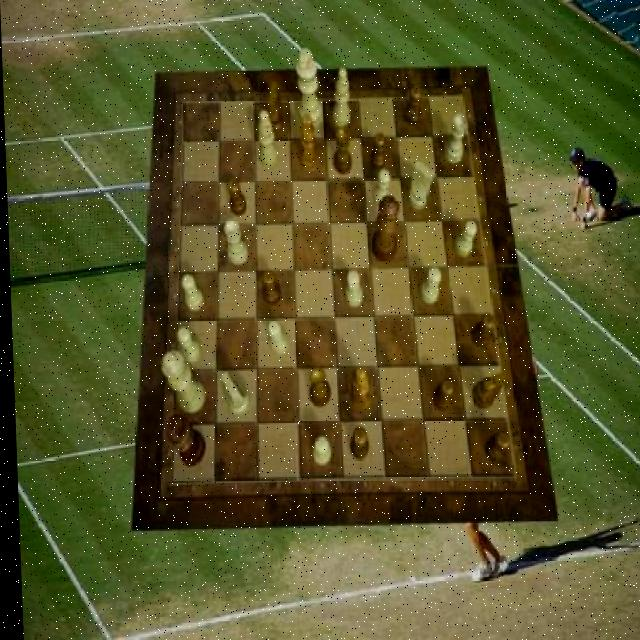bishop: (298, 114, 317, 172), (345, 368, 367, 410)
black-bishop: (162, 414, 203, 468)
black-king: (469, 372, 504, 410), (265, 81, 284, 136)
black-knight: (468, 312, 493, 347), (481, 431, 507, 462), (403, 86, 422, 126), (429, 378, 451, 412), (226, 179, 245, 216), (367, 134, 385, 172), (345, 428, 365, 462), (260, 270, 278, 306)
black-pawn: (368, 196, 400, 262)
black-queen: (303, 368, 327, 408), (331, 126, 350, 176)
black-rook: (256, 109, 277, 167), (331, 68, 350, 126)
white-bishop: (294, 48, 320, 128)
white-king: (405, 163, 434, 211), (217, 372, 246, 415)
white-knight: (451, 220, 475, 258), (416, 268, 440, 304), (179, 276, 203, 312), (174, 328, 198, 362), (370, 169, 391, 207), (265, 320, 286, 355), (343, 269, 361, 307), (309, 436, 327, 466)
white-pawn: (158, 351, 203, 413)
white-queen: (441, 114, 466, 163), (221, 220, 246, 266)
